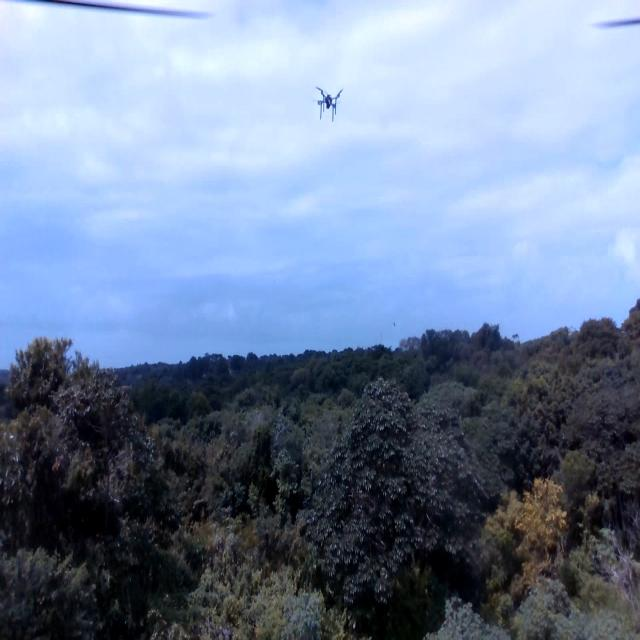-uav-: (308, 74, 352, 129)
